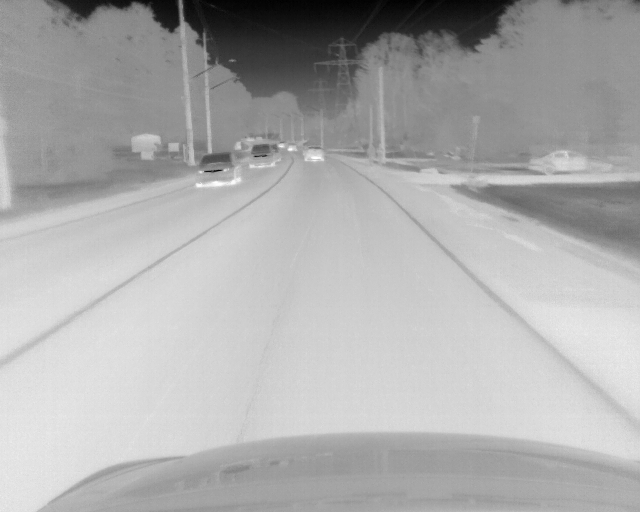car: (526, 150, 613, 178), (194, 152, 242, 186), (249, 143, 281, 169), (302, 147, 325, 163), (285, 143, 297, 152)
people: (365, 141, 375, 168), (375, 143, 384, 169)
